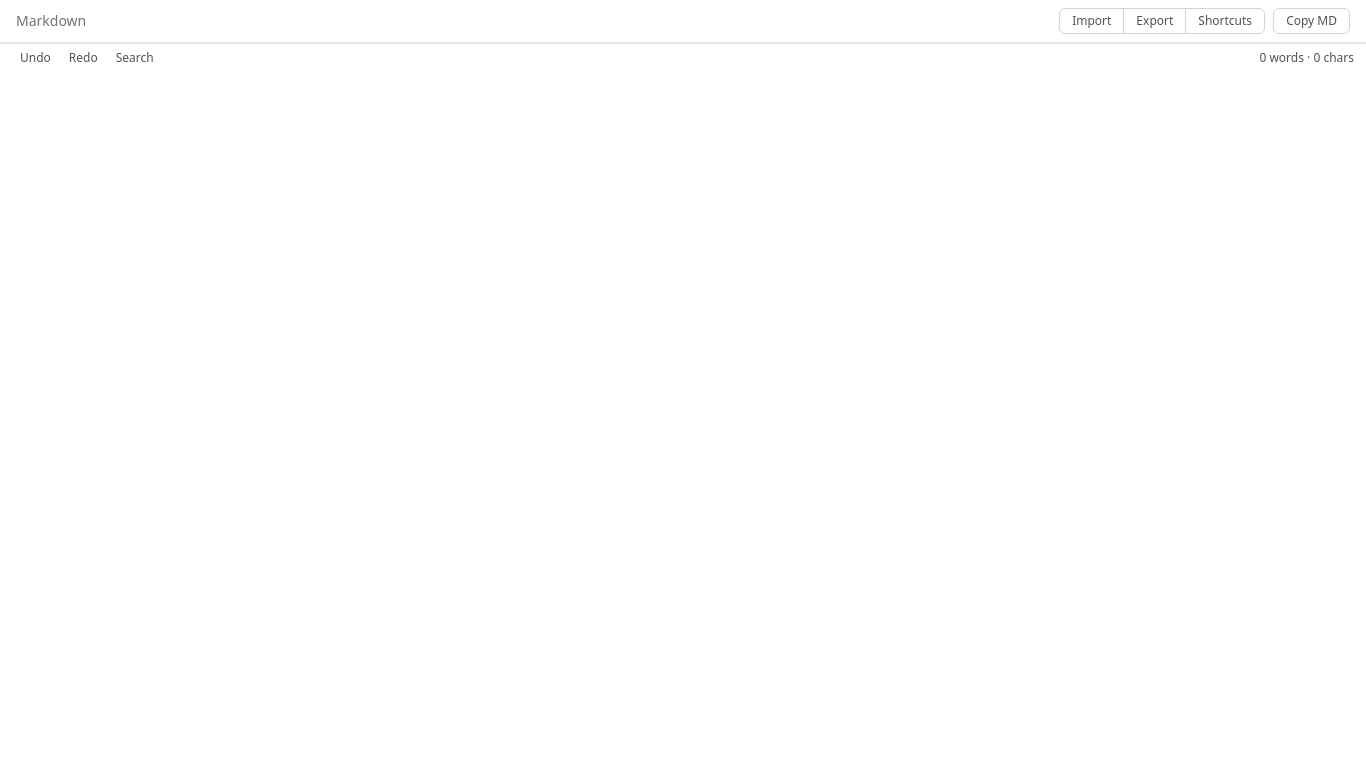
MarkdownInput — panel structure › opens shortcuts modal when keyboard shortcuts button is clicked
Click the button with aria-label "Keyboard shortcuts": [1225, 21] box [1185,9,1264,33]
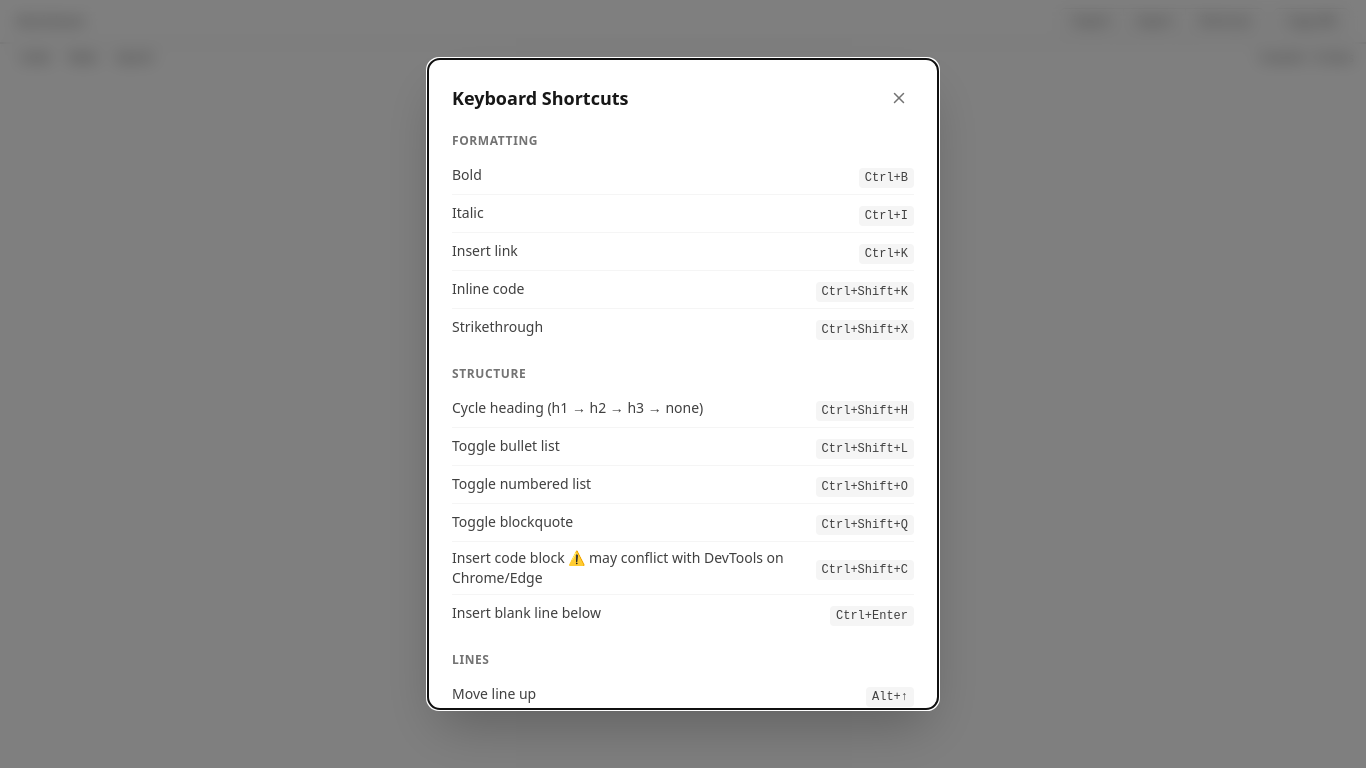
Result: the dialog is shown
